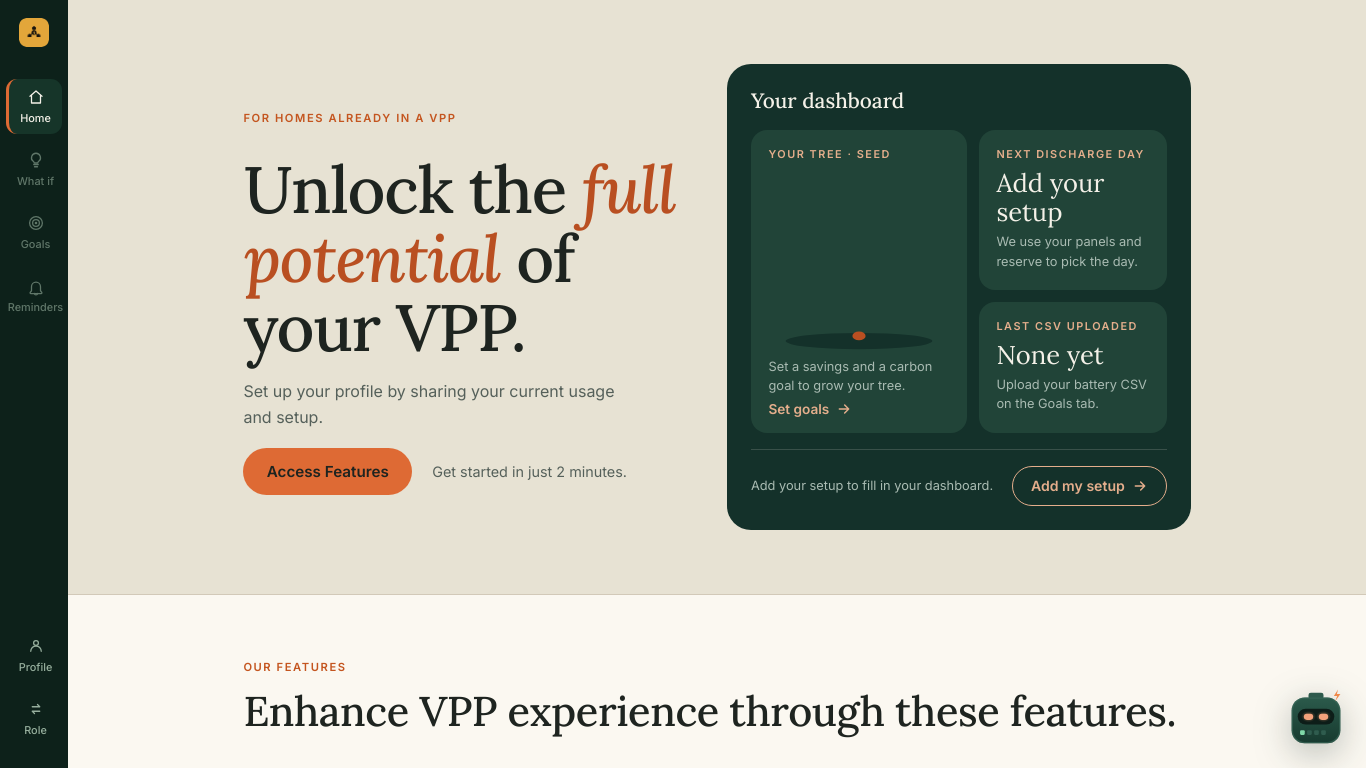
Test: improve home › opens the setup form from Add my setup
Click the button "Add my setup": x=1090, y=486 [1012, 466, 1167, 506]
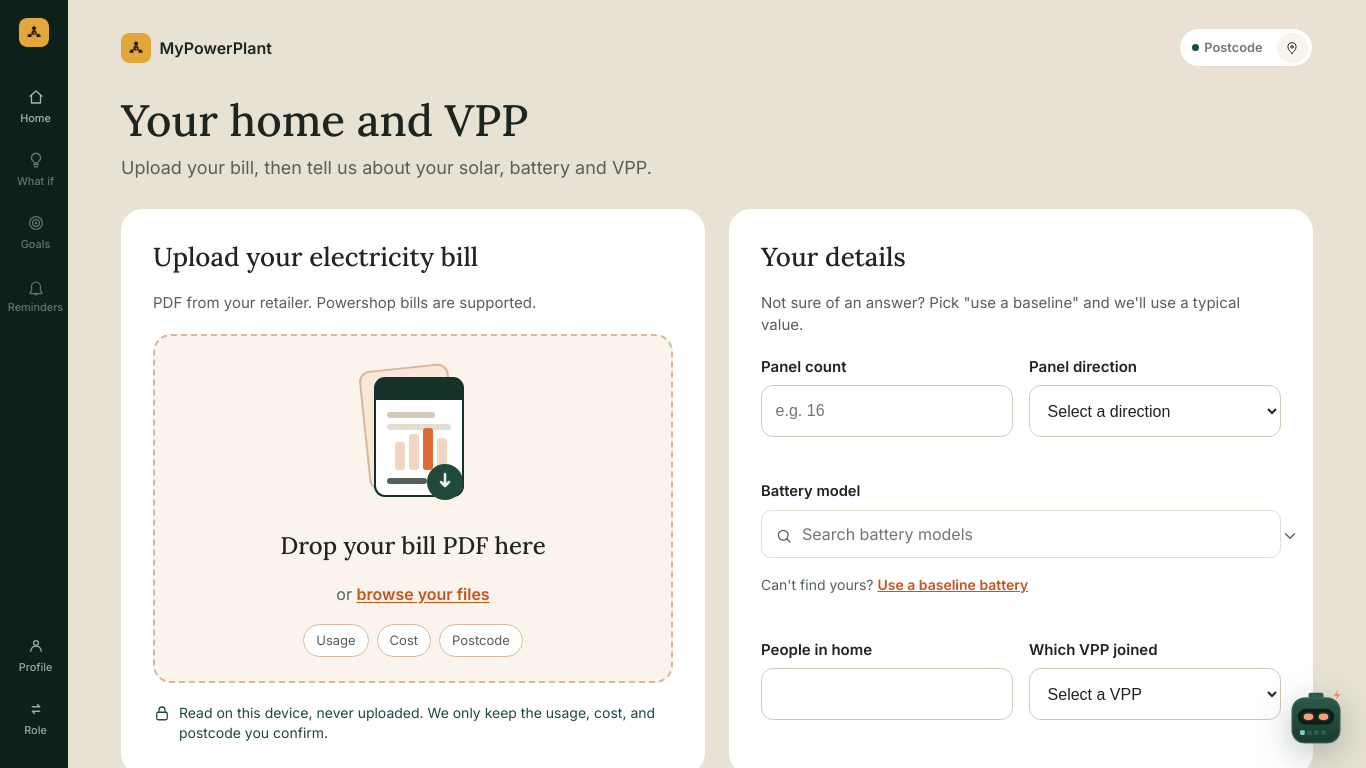
Result: the heading "Your home and VPP" is shown at [121, 92, 528, 148]
